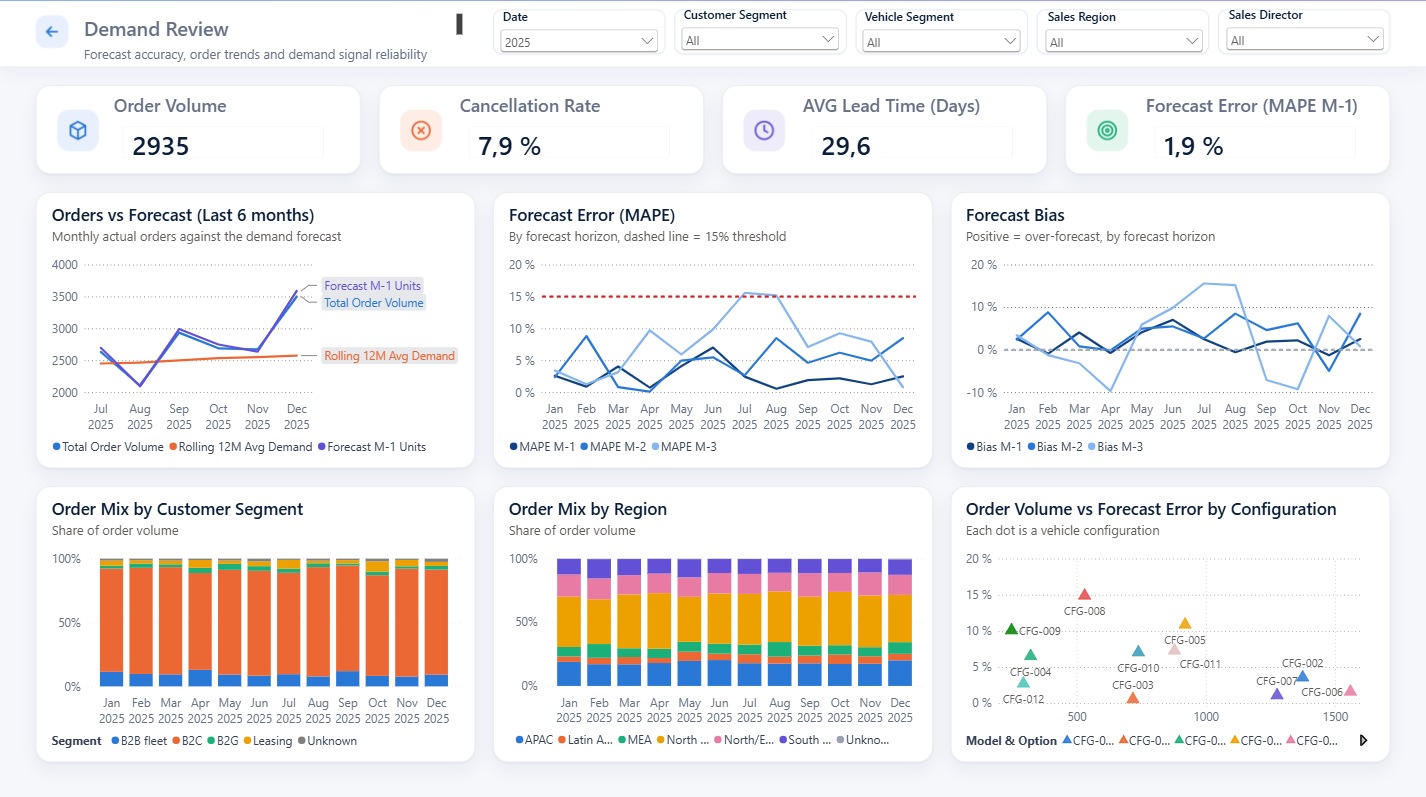

What the dashboard file says about the page in this screenshot:
{"tool":"powerbi","page":{"name":"Demand Review","canvas":[1920,1080],"ordinal":1},"visuals":[{"type":"cardVisual","title":"Order Volume","fields":{"Data":["_Measures.Total Order Volume (Current Month)"]},"box":[148.1,127.9,305.7,105],"z":0},{"type":"cardVisual","title":"Cancellation Rate","fields":{"Data":["_Measures.Cancellation Rate (Current Month)"]},"box":[614.1,127.9,305.7,105],"z":1000},{"type":"cardVisual","title":"AVG Lead Time (Days)","fields":{"Data":["_Measures.AVG Lead Time (Current Month)"]},"box":[1076,127.9,305.7,105],"z":2000},{"type":"cardVisual","title":"Forecast Error (MAPE M-1)","fields":{"Data":["_Measures.MAPE M-1 (Current Month)"]},"box":[1537.9,127.9,305.7,105],"z":3000},{"type":"slicer","fields":{"Values":["Dim_Calendar.year","Dim_Calendar.MonthYear"]},"box":[663.9,9.4,231.6,78.1],"z":4000},{"type":"lineChart","title":"Orders vs Forecast (Last 6 months)","fields":{"Category":["Dim_Calendar.MonthYear"],"Y":["_Measures.Total Order Volume","_Measures.Rolling 12M Avg Demand","_Measures.Forecast M-1 Units"]},"box":[64,276,560,348],"z":5000},{"type":"lineChart","title":"Forecast Error (MAPE)","fields":{"Category":["Dim_Calendar.MonthYear"],"Y":["_Measures.MAPE M-1","_Measures.MAPE M-2","_Measures.MAPE M-3"]},"box":[680,276,560,348],"z":6000},{"type":"lineChart","title":"Forecast Bias","fields":{"Category":["Dim_Calendar.MonthYear"],"Y":["_Measures.Bias M-1","_Measures.Bias M-2","_Measures.Bias M-3"]},"box":[1296,276,560,348],"z":7000},{"type":"hundredPercentStackedColumnChart","title":"Order Mix by Customer Segment","fields":{"Category":["Dim_Calendar.MonthYear"],"Series":["Dim_Customer.customer_segment"],"Y":["_Measures.Total Order Volume"]},"box":[64,672,560,348],"z":8000},{"type":"hundredPercentStackedColumnChart","title":"Order Mix by Region","fields":{"Category":["Dim_Calendar.MonthYear"],"Series":["Dim_Customer.region"],"Y":["_Measures.Total Order Volume"]},"box":[680,672,569.6,347.4],"z":9000},{"type":"scatterChart","title":"Order Volume vs Forecast Error by Configuration","fields":{"Series":["Dim_Vehicle_Config.config_id"],"X":["_Measures.Total Order Volume"],"Y":["_Measures.MAPE M-1"]},"box":[1296,672,560,348],"z":10000},{"type":"slicer","fields":{"Values":["Dim_Customer.customer_segment"]},"box":[907.6,6.7,231.6,71.4],"z":11000},{"type":"slicer","fields":{"Values":["Dim_Vehicle_Config.vehicle_segment","Dim_Vehicle_Config.model","Dim_Vehicle_Config.config_id"]},"box":[1151.4,9.4,233,70],"z":12000},{"type":"slicer","fields":{"Values":["Dim_Customer.region"]},"box":[1397.8,9.4,231.6,70],"z":13000},{"type":"slicer","fields":{"Values":["Dim_Salesperson.sales_director_name","Dim_Salesperson.sales_manager_name","Dim_Salesperson.salesperson_name"]},"box":[1641.5,6.7,231.6,70],"z":14000},{"type":"actionButton","box":[48,26,44,44],"z":15000},{"type":"textbox","box":[108,16,520,42],"z":16000},{"type":"textbox","box":[107.7,57.9,519.8,37.7],"z":17000}]}

Visuals, with their boxes in screenshot pixels (x1, y1, x2, y2), scaled from the page's 1920x1080 canvas onto the 1426x797 screenshot:
"Order Volume" cardVisual: <box>110,94,337,172</box>
"Cancellation Rate" cardVisual: <box>456,94,683,172</box>
"AVG Lead Time (Days)" cardVisual: <box>799,94,1026,172</box>
"Forecast Error (MAPE M-1)" cardVisual: <box>1142,94,1369,172</box>
slicer - Dim_Calendar.year x Dim_Calendar.MonthYear: <box>493,7,665,65</box>
"Orders vs Forecast (Last 6 months)" lineChart: <box>48,204,463,460</box>
"Forecast Error (MAPE)" lineChart: <box>505,204,921,460</box>
"Forecast Bias" lineChart: <box>963,204,1378,460</box>
"Order Mix by Customer Segment" hundredPercentStackedColumnChart: <box>48,496,463,753</box>
"Order Mix by Region" hundredPercentStackedColumnChart: <box>505,496,928,752</box>
"Order Volume vs Forecast Error by Configuration" scatterChart: <box>963,496,1378,753</box>
slicer - Dim_Customer.customer_segment: <box>674,5,846,58</box>
slicer - Dim_Vehicle_Config.vehicle_segment x Dim_Vehicle_Config.model: <box>855,7,1028,59</box>
slicer - Dim_Customer.region: <box>1038,7,1210,59</box>
slicer - Dim_Salesperson.sales_director_name x Dim_Salesperson.sales_manager_name: <box>1219,5,1391,57</box>
actionButton: <box>36,19,68,52</box>
textbox: <box>80,12,466,43</box>
textbox: <box>80,43,466,71</box>
